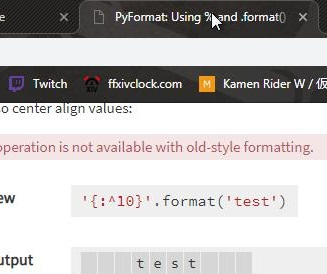cursor: (210, 10, 223, 32)
